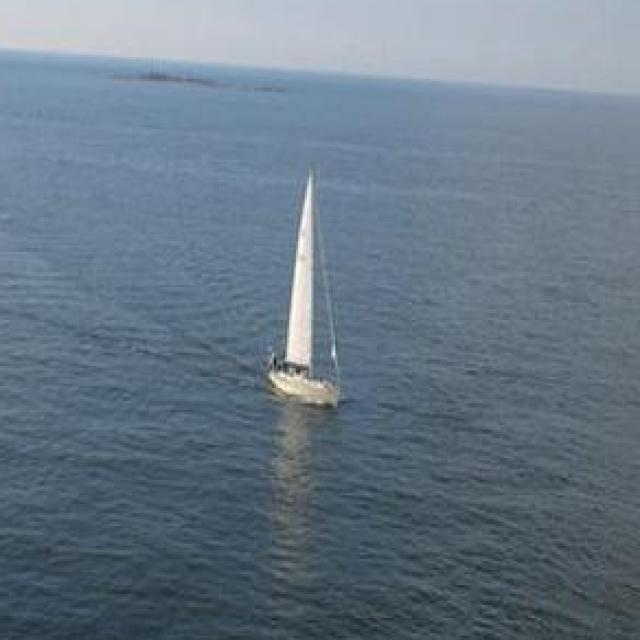sailboat: (261, 154, 350, 412)
